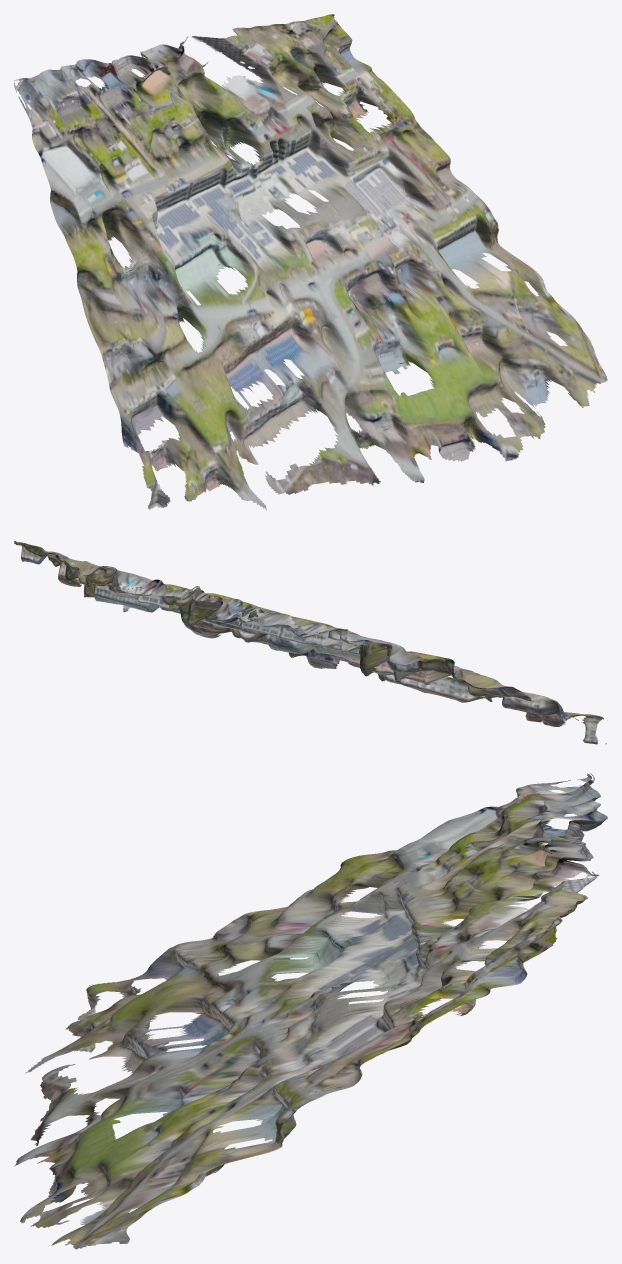
File: map_validated.glb
3 views of the same model, one above another, from view 1: azimuth 30°, elevation 25°; view 2: azimuth 150°, elevation 25°; view 3: azimuth 270°, elevation 25° (orthographic). The views are drawn at different scales.
Visible parts, largest first — view 1: geometry_0; view 2: geometry_0; view 3: geometry_0.
Boxes of the visible parts, x1,y1,x2,y2 form: geometry_0: [14, 14, 607, 510]; geometry_0: [14, 540, 607, 744]; geometry_0: [14, 773, 607, 1249].
Bounding box in the file's own units: 0.5482 × 0.3 × 0.5201.
